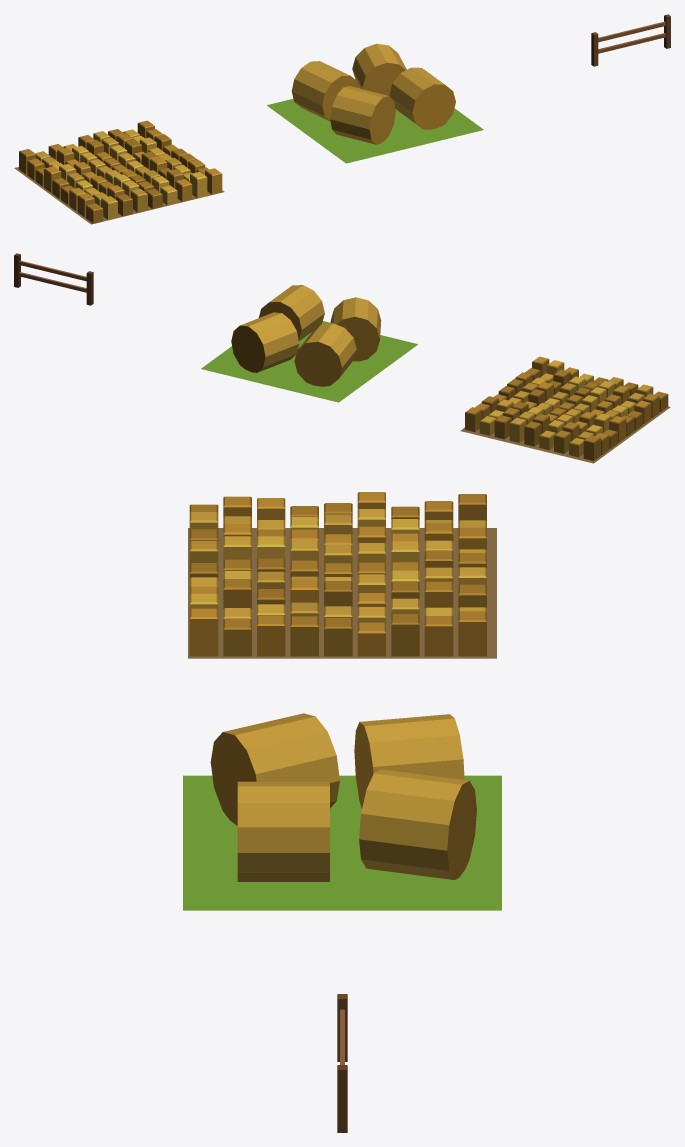
The model's file is farm.glb.
3 renders of one model, top to bottom at view 1: azimuth 30°, elevation 25°; view 2: azimuth 150°, elevation 25°; view 3: azimuth 270°, elevation 25°, orthographic. The views are drawn at different scales.
Parts seen in each view (by area): view 1: hay_bales, crop_field, fence; view 2: hay_bales, crop_field, fence; view 3: hay_bales, crop_field, fence.
Part boxes in pixels (box(x1,y1,x2,y2)): hay_bales: box(267, 43, 483, 163); crop_field: box(14, 120, 224, 224); fence: box(591, 14, 670, 66); hay_bales: box(201, 285, 417, 402); crop_field: box(460, 356, 670, 463); fence: box(14, 253, 93, 305); hay_bales: box(183, 713, 501, 910); crop_field: box(188, 492, 496, 658); fence: box(337, 994, 347, 1132).
Size of the model in its own units: 10.61 by 0.75 by 2.38.
